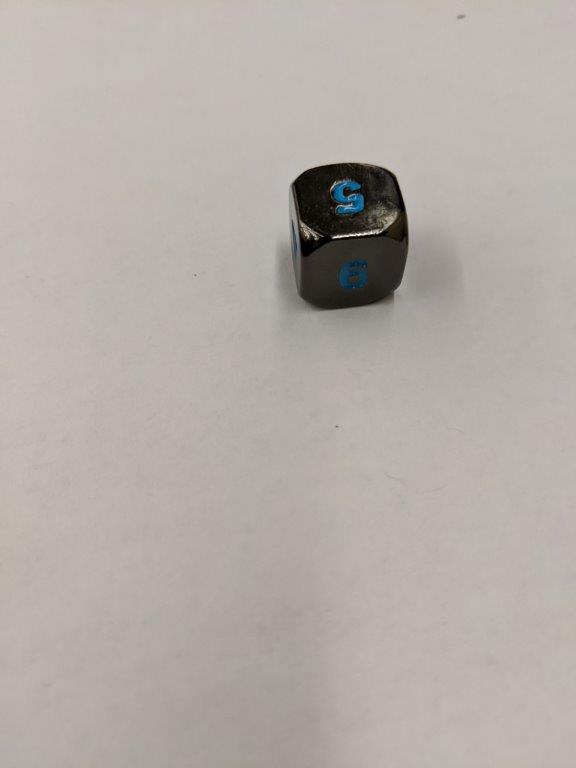d6-5: (288, 162, 411, 313)
